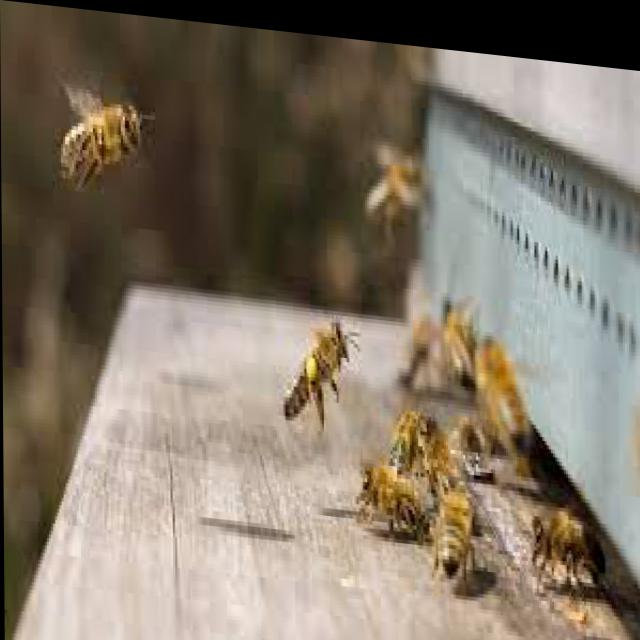Abeille: (48, 57, 165, 208), (280, 294, 360, 438), (527, 487, 608, 578), (431, 462, 485, 591), (357, 447, 425, 536)
